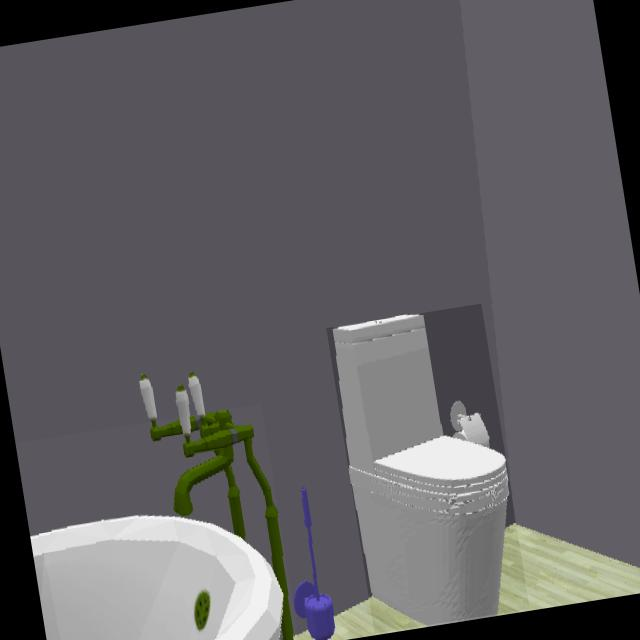bathtube: (30, 410, 286, 640)
toilet: (333, 318, 511, 627)
